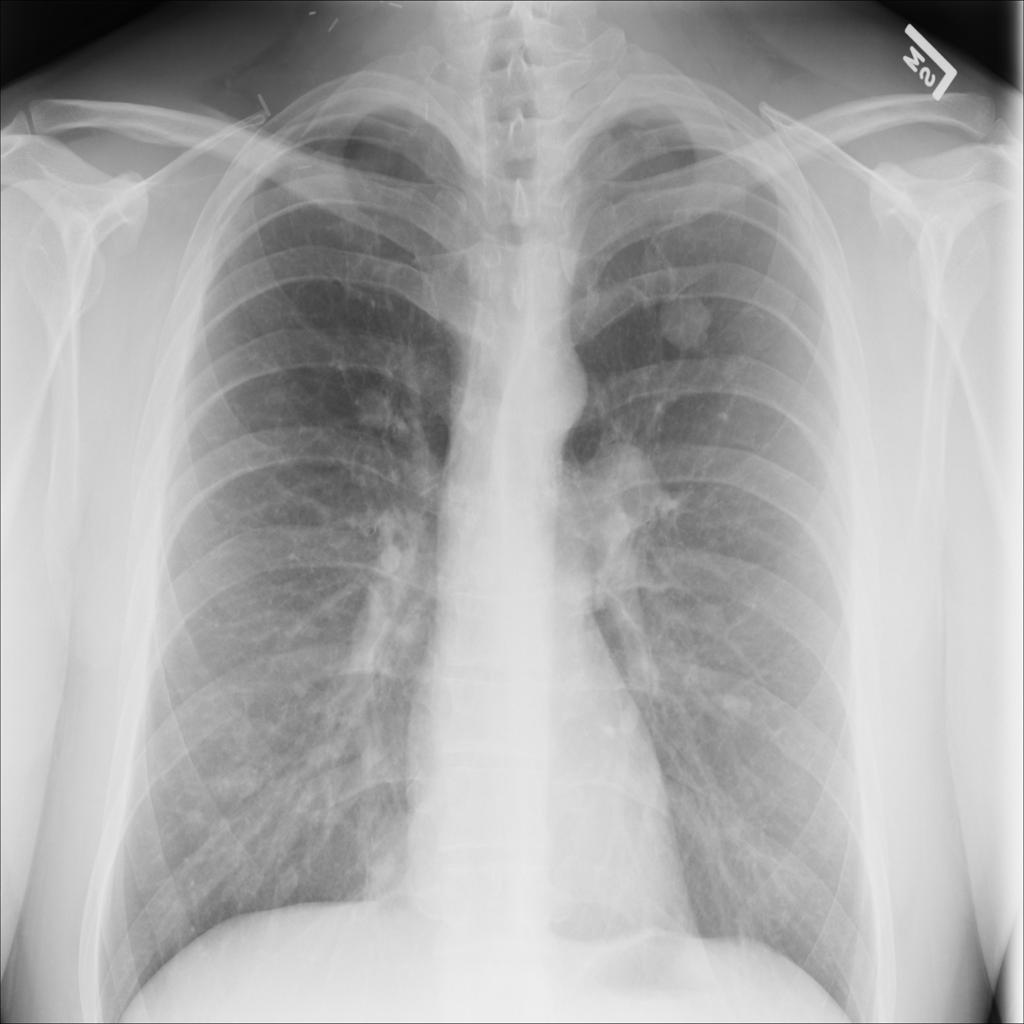nodule: (654, 282, 727, 362), (702, 667, 768, 741), (341, 371, 409, 442), (252, 363, 302, 416)
